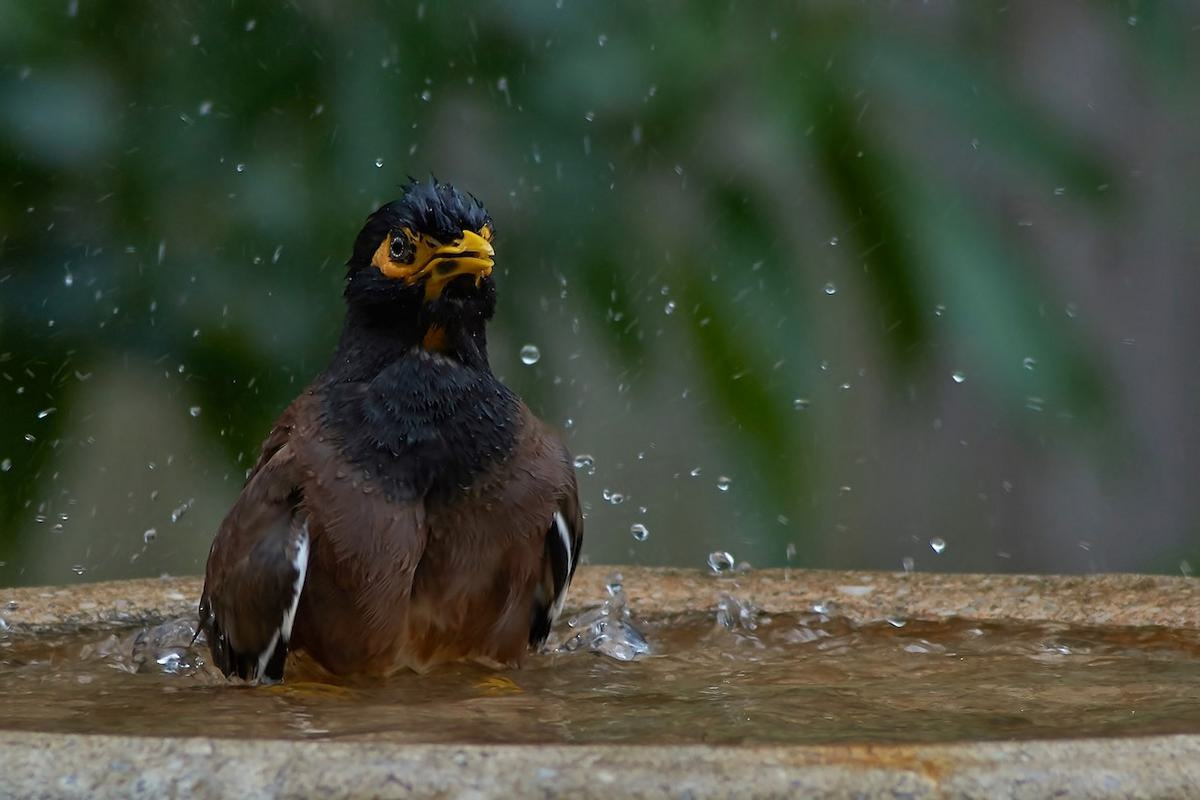myna: (204, 146, 650, 673)
